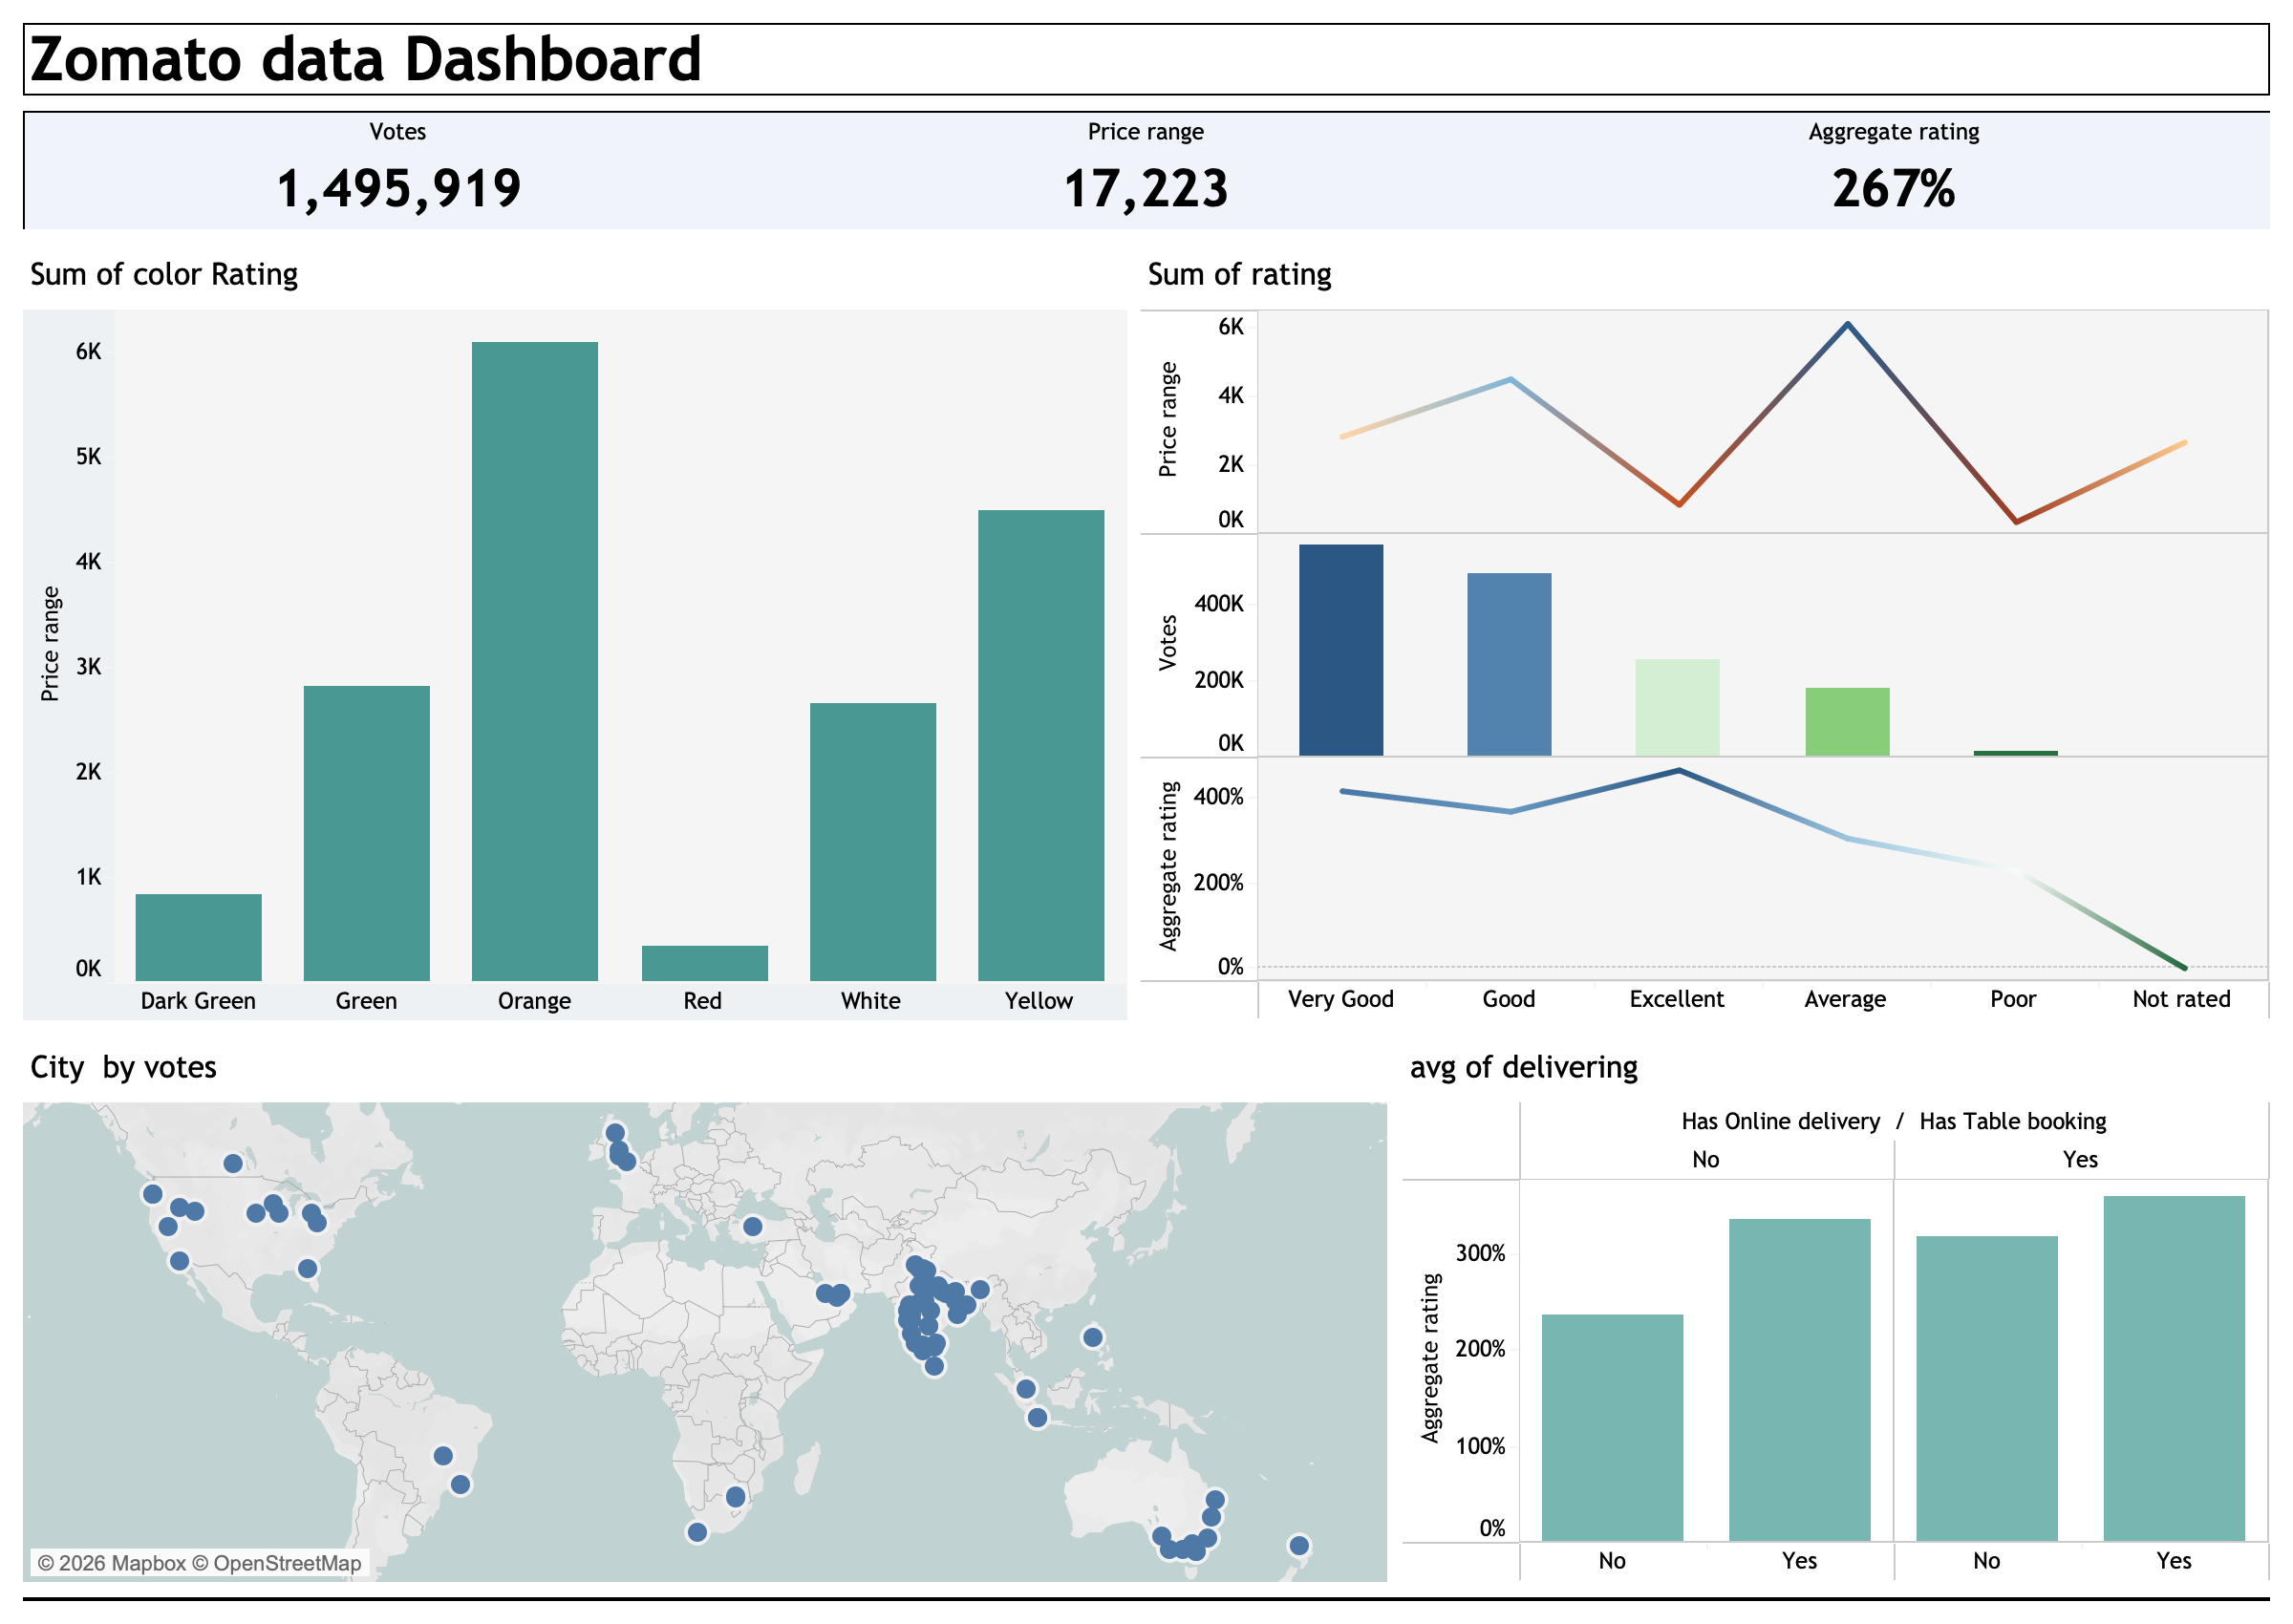

The page's visual inventory and layout, read from the dashboard file:
{"tool":"tableau","page":{"name":"Dashboard 1","canvas":[1200,850],"ordinal":0},"visuals":[{"type":"title","box":[8,8,1184,46]},{"type":"worksheet","title":"KPIs","mark":"Automatic","box":[8,54,1184,70]},{"type":"worksheet","title":"Sum of color Rating","mark":"Automatic","rows":["Price range"],"cols":["Rating color"],"box":[8,124,585,414.5]},{"type":"worksheet","title":"Sum of rating","mark":"Line","rows":["Price range","Votes","Aggregate rating"],"cols":["Rating text"],"box":[593,124,599,414.5]},{"type":"worksheet","title":"City  by votes","mark":"Automatic","box":[8,538.5,722,293.5]},{"type":"worksheet","title":"avg of delivering","mark":"Automatic","rows":["Aggregate rating"],"cols":["Has Online delivery","Has Table booking"],"box":[730,538.5,462,293.5]},{"type":"blank","box":[8,832,1184,10]}]}

Visuals, with their boxes in screenshot pixels (x1, y1, x2, y2), scaled from the page's 1200x850 canvas onto the 2293x1624 screenshot:
title: bbox=[15, 15, 2278, 103]
"KPIs" worksheet: bbox=[15, 103, 2278, 237]
"Sum of color Rating" worksheet: bbox=[15, 237, 1133, 1029]
"Sum of rating" worksheet (Line marks): bbox=[1133, 237, 2278, 1029]
"City  by votes" worksheet: bbox=[15, 1029, 1395, 1590]
"avg of delivering" worksheet: bbox=[1395, 1029, 2278, 1590]
blank: bbox=[15, 1590, 2278, 1609]
